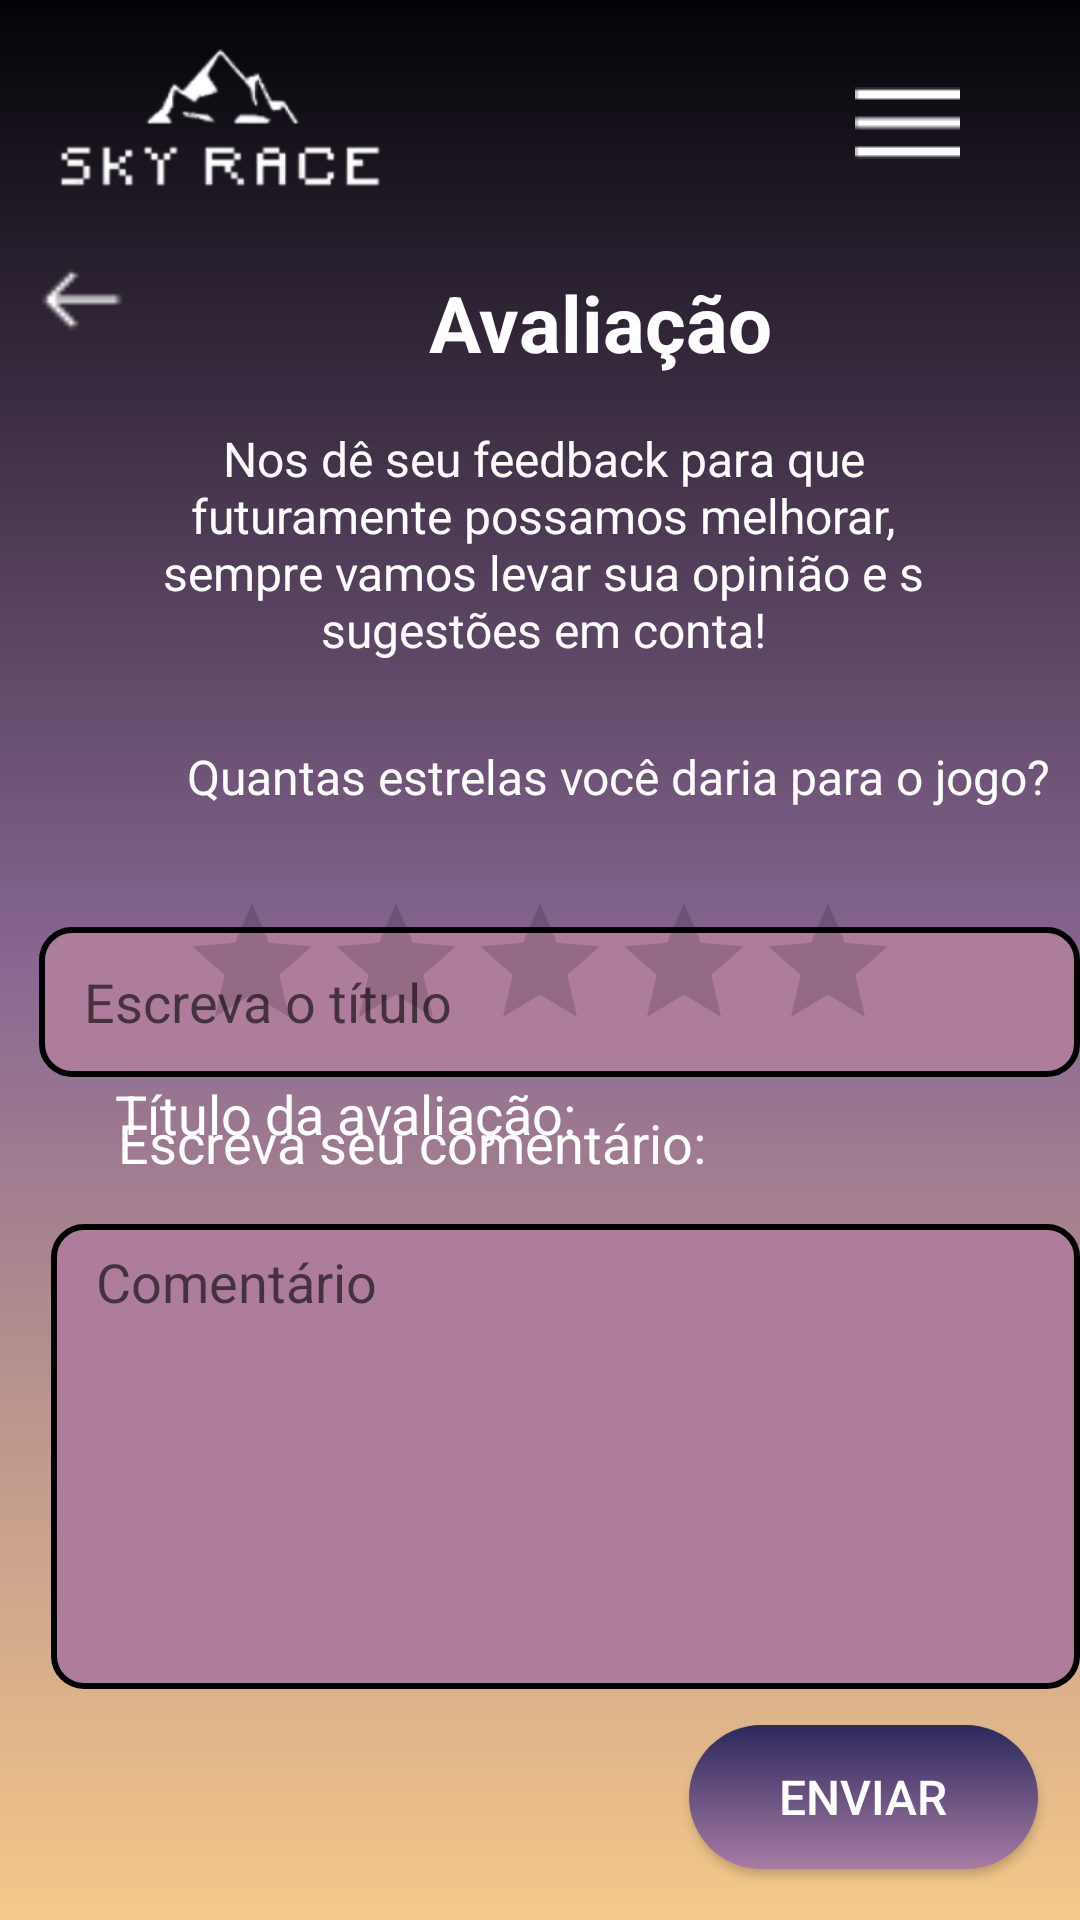

Locate icon controls on the screen. Image size 1080 x 1920, boxes as [x1, y1, x2, y2].
flecha: [42, 271, 122, 330]
menu: [855, 89, 960, 159]
